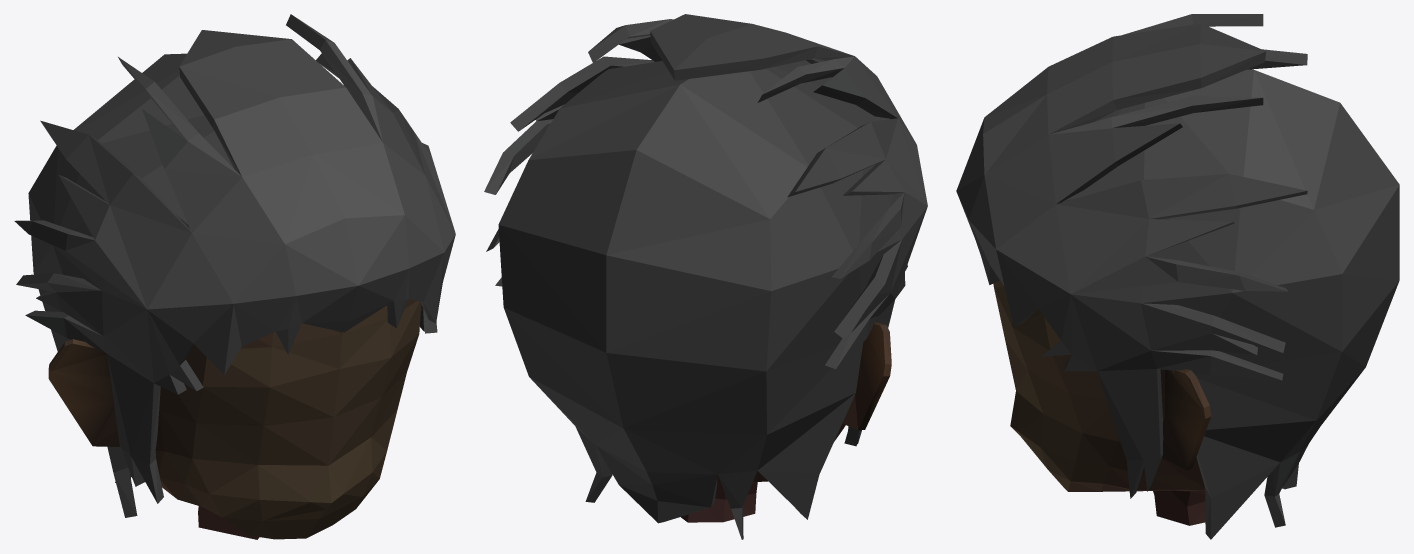
The model's file is helm_darkskin_spike_gray.fbx.
3 views of the same model, side by side, from view 1: azimuth 30°, elevation 25°; view 2: azimuth 150°, elevation 25°; view 3: azimuth 270°, elevation 25° (orthographic).
Parts seen in each view (by area): view 1: helm_darkskin_spike_black; view 2: helm_darkskin_spike_black; view 3: helm_darkskin_spike_black.
Boxes of the visible parts, left/top/right/bottom form: helm_darkskin_spike_black: left=14, top=14, right=455, bottom=539; helm_darkskin_spike_black: left=484, top=14, right=927, bottom=539; helm_darkskin_spike_black: left=956, top=14, right=1399, bottom=539.
Size of the model in its own units: 1.13 by 1.39 by 1.18.
